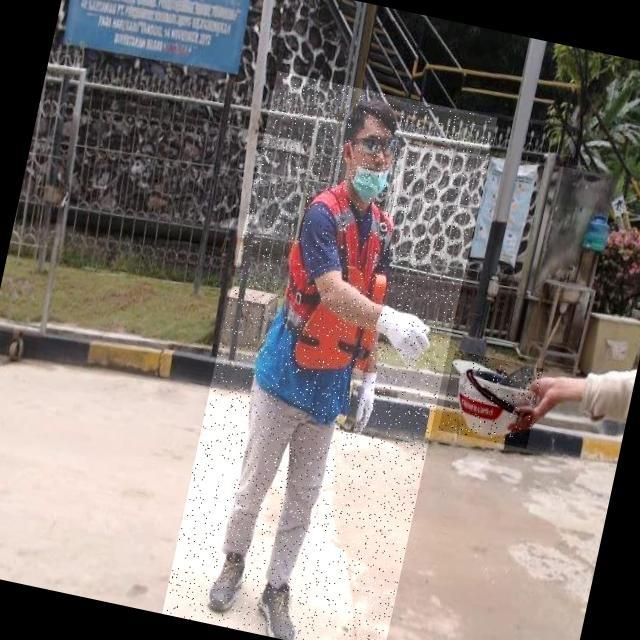Helmet: (438, 350, 543, 449)
Human: (162, 70, 497, 640)
Safety Boot: (251, 574, 309, 640), (205, 543, 253, 618)
Safety Vest: (245, 174, 409, 426)
